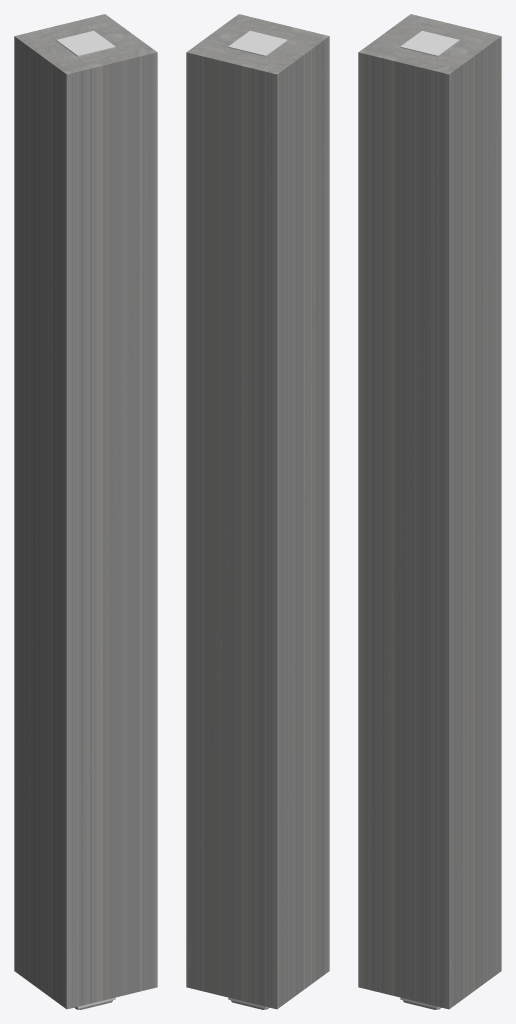
File: s_camera_pole.dae
3 views of the same model, side by side, from view 1: azimuth 30°, elevation 25°; view 2: azimuth 150°, elevation 25°; view 3: azimuth 330°, elevation 25° (orthographic).
Parts seen in each view (by area): view 1: Colmesh-1, s_camera_pole_a015; view 2: Colmesh-1, s_camera_pole_a015; view 3: Colmesh-1, s_camera_pole_a015.
Boxes of the visible parts, x1,y1,x2,y2 form: Colmesh-1: [14, 14, 157, 1009]; s_camera_pole_a015: [56, 30, 115, 1008]; Colmesh-1: [186, 14, 329, 1009]; s_camera_pole_a015: [228, 30, 287, 1008]; Colmesh-1: [358, 14, 501, 1009]; s_camera_pole_a015: [400, 30, 459, 1008].
Bounding box in the file's own units: 0.5 × 0.5 × 5.03.
